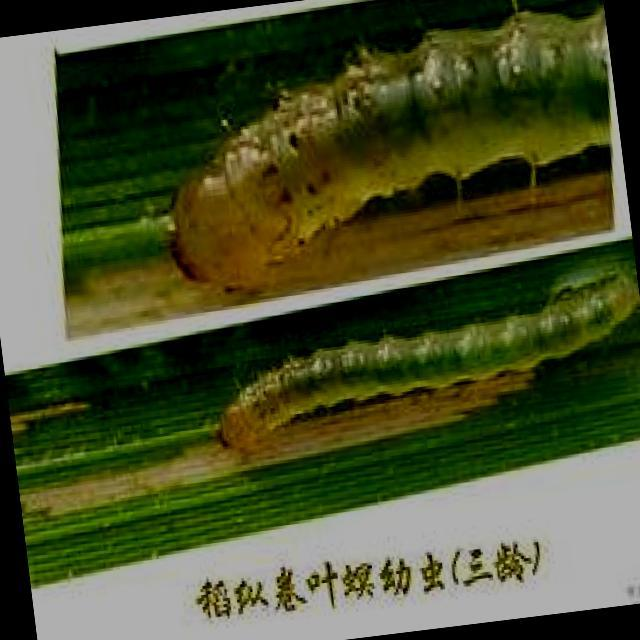leaf folder: (68, 10, 613, 312), (218, 266, 639, 456)
